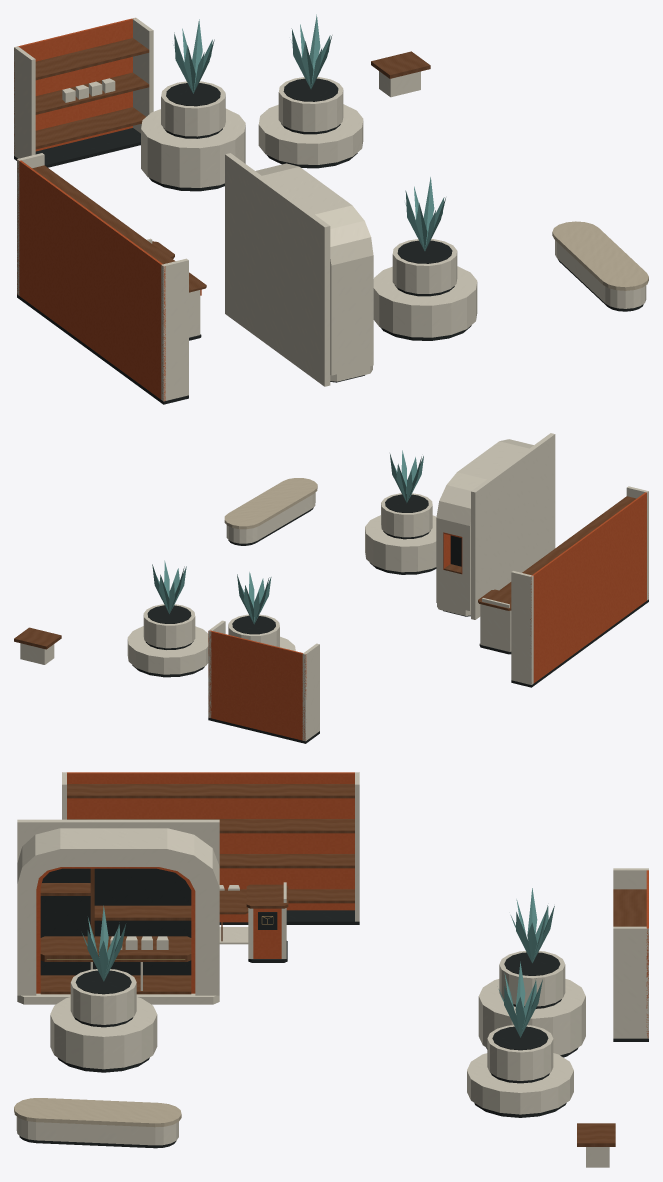
File: SHOP_D09_S72_F080__care_clearance_r001.glb
3 views of the same model, one above another, from view 1: azimuth 30°, elevation 25°; view 2: azimuth 150°, elevation 25°; view 3: azimuth 270°, elevation 25° (orthographic). The views are drawn at different scales.
Visible parts, largest first — view 1: SHOP_D09_S72_F080__fitout__ivory_enamel, SHOP_D09_S72_F080__fitout__retail_terracotta_enamel, SHOP_D09_S72_F080__fitout__warm_walnut, SHOP_D09_S72_F080__fitout__dark_rubber, SHOP_D09_S72_F080__fitout__quiet_teal, SHOP_D09_S72_F080__fitout__oatmeal_weave; view 2: SHOP_D09_S72_F080__fitout__ivory_enamel, SHOP_D09_S72_F080__fitout__retail_terracotta_enamel, SHOP_D09_S72_F080__fitout__dark_rubber, SHOP_D09_S72_F080__fitout__quiet_teal, SHOP_D09_S72_F080__fitout__warm_walnut, SHOP_D09_S72_F080__fitout__oatmeal_weave; view 3: SHOP_D09_S72_F080__fitout__ivory_enamel, SHOP_D09_S72_F080__fitout__warm_walnut, SHOP_D09_S72_F080__fitout__retail_terracotta_enamel, SHOP_D09_S72_F080__fitout__dark_rubber, SHOP_D09_S72_F080__fitout__oatmeal_weave, SHOP_D09_S72_F080__fitout__quiet_teal.
Part boxes in pixels (x1,y1,x2,y2): SHOP_D09_S72_F080__fitout__ivory_enamel: [14, 17, 646, 401]; SHOP_D09_S72_F080__fitout__retail_terracotta_enamel: [14, 18, 201, 400]; SHOP_D09_S72_F080__fitout__warm_walnut: [32, 38, 430, 292]; SHOP_D09_S72_F080__fitout__dark_rubber: [14, 78, 643, 404]; SHOP_D09_S72_F080__fitout__quiet_teal: [173, 14, 445, 250]; SHOP_D09_S72_F080__fitout__oatmeal_weave: [552, 221, 648, 290]; SHOP_D09_S72_F080__fitout__ivory_enamel: [20, 433, 648, 741]; SHOP_D09_S72_F080__fitout__retail_terracotta_enamel: [208, 492, 646, 740]; SHOP_D09_S72_F080__fitout__dark_rubber: [132, 494, 648, 743]; SHOP_D09_S72_F080__fitout__quiet_teal: [152, 450, 423, 624]; SHOP_D09_S72_F080__fitout__warm_walnut: [14, 496, 636, 649]; SHOP_D09_S72_F080__fitout__oatmeal_weave: [224, 478, 317, 529]; SHOP_D09_S72_F080__fitout__ivory_enamel: [16, 772, 648, 1167]; SHOP_D09_S72_F080__fitout__warm_walnut: [40, 784, 646, 1146]; SHOP_D09_S72_F080__fitout__retail_terracotta_enamel: [36, 772, 648, 1037]; SHOP_D09_S72_F080__fitout__dark_rubber: [19, 868, 648, 1148]; SHOP_D09_S72_F080__fitout__oatmeal_weave: [14, 1098, 181, 1127]; SHOP_D09_S72_F080__fitout__quiet_teal: [82, 888, 554, 1037].
Size of the model in its own units: 10.25 by 3 by 10.67.
Materials: 7 (6 with a texture image).
